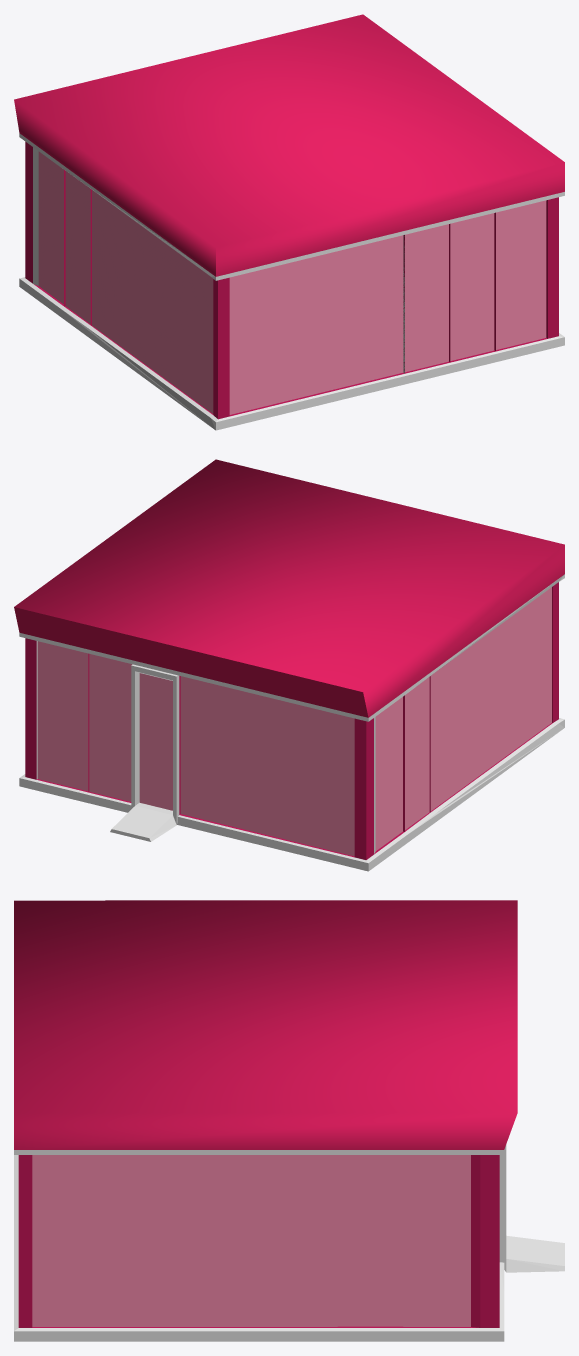
The model's file is Shop6x6x3Pink.fbx.
3 views of the same model, one above another, from view 1: azimuth 30°, elevation 25°; view 2: azimuth 150°, elevation 25°; view 3: azimuth 270°, elevation 25° (orthographic). The views are drawn at different scales.
Visible parts, largest first — view 1: Shop.001; view 2: Shop.001; view 3: Shop.001.
Part boxes in pixels (bbox=[...]): Shop.001: bbox=[14, 14, 564, 430]; Shop.001: bbox=[14, 459, 564, 871]; Shop.001: bbox=[14, 900, 564, 1341].
Bounding box in the file's own units: 5.92 × 2.97 × 6.49.
Materials: 1 (1 with a texture image).
